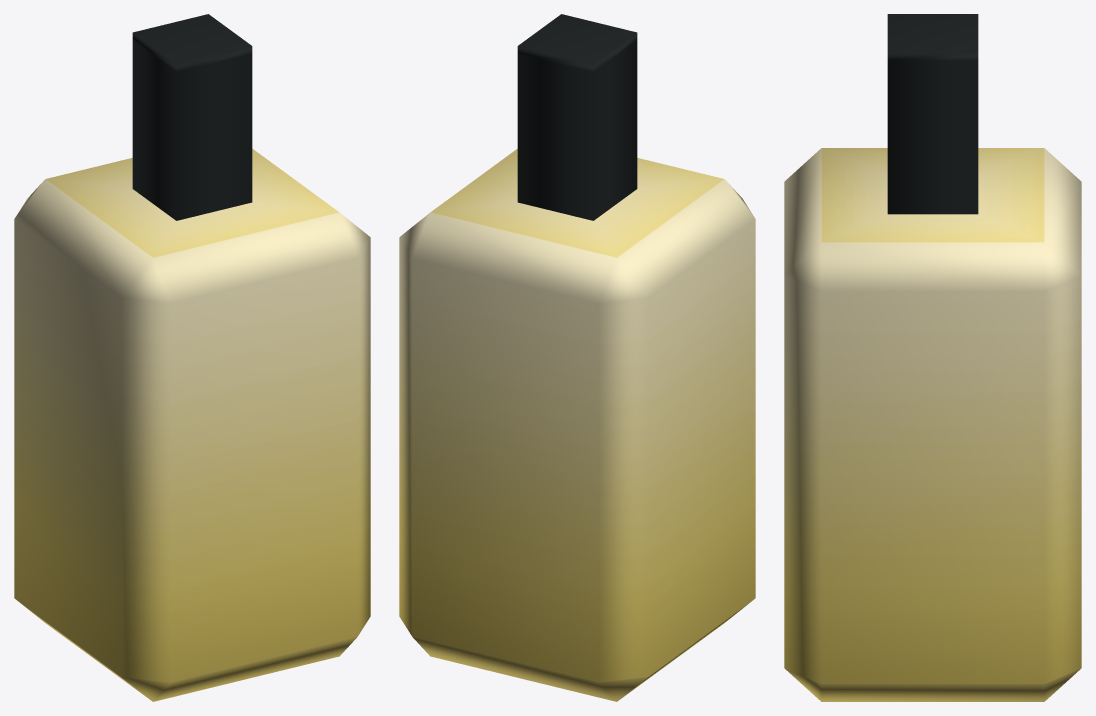
File: candle_small_2.fbx
3 views of the same model, side by side, from view 1: azimuth 30°, elevation 25°; view 2: azimuth 150°, elevation 25°; view 3: azimuth 270°, elevation 25° (orthographic). The views are drawn at different scales.
Visible parts, largest first — view 1: candle_small_2; view 2: candle_small_2; view 3: candle_small_2.
Boxes of the visible parts, x1,y1,x2,y2 form: candle_small_2: (14,14,370,701); candle_small_2: (399,14,755,701); candle_small_2: (784,14,1081,701).
Size of the model in its own units: 18.51 by 42.68 by 18.51.
